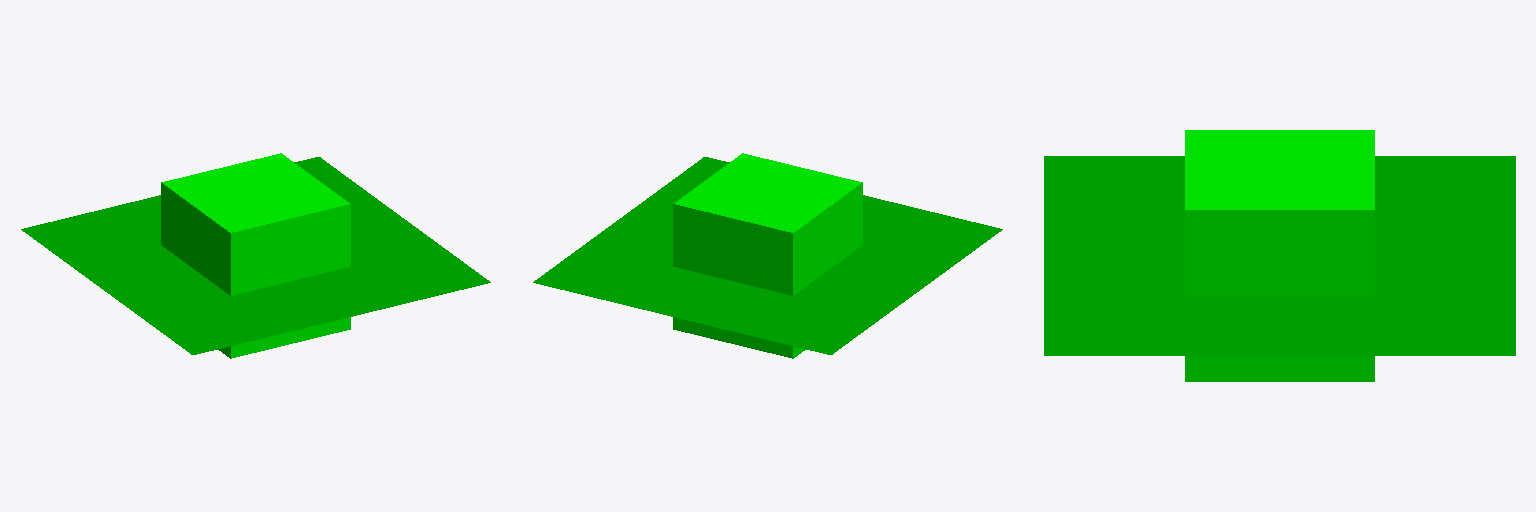
The robot description file, URDF, robot "cubeTargetIndicator.urdf":
<?xml version="1.0" ?>
<!-- =================================================================================== -->
<!-- |    This document was autogenerated by xacro from [local-path]/Documents/Courses/2020 IPAB_intern/RSS_Practical_Private/Completed_direction/RSS_Practical_2020/task3_1/lib/task_urdfs/task3_1_target.urdf | -->
<!-- |    EDITING THIS FILE BY HAND IS NOT RECOMMENDED                                 | -->
<!-- =================================================================================== -->
<robot name="cubeTargetIndicator.urdf" xmlns:xacro="http://ros.org/wiki/xacro">
  <!-- size in x direction -->
  <!-- size in y direction -->
  <!-- size in z direction -->
  <material name="red">
    <color rgba="1 0 0 0.5"/>
  </material>
  <material name="yellow">
    <color rgba="1 1 0 0.5"/>
  </material>
  <material name="green">
    <color rgba="0 1 0 .8"/>
  </material>
  <material name="dark_green">
    <color rgba="0 .7 0 .5"/>
  </material>
  <link name="base_link">
    <!-- target area plane -->
    <visual>
      <origin rpy="0 0 0" xyz="0 0 0.0"/>
      <geometry>
        <box size="0.198994 0.198994 0.0"/>
      </geometry>
      <material name="dark_green"/>
    </visual>
  </link>
  <!-- <link name="wall1">
        <visual>
            <origin rpy="0 0 0" xyz="0 0 0"/>
            <geometry>
                <box size="${wallThickness} ${targetAreaWidth} ${wallHeight}"/>
            </geometry>
            <material name="yellow" />
        </visual>
    </link>

    <link name="wall2">
        <visual>
            <origin rpy="0 0 ${pi/2}" xyz="0 0 0"/>
            <geometry>
                <box size="${wallThickness} ${targetAreaLength+wallThickness} ${wallHeight}"/>
            </geometry>
            <material name="yellow" />
        </visual>
    </link>

    <link name="wall3">
        <visual>
            <origin rpy="0 0 ${pi/2}" xyz="0 0 0"/>
            <geometry>
                <box size="${wallThickness} ${targetAreaLength+wallThickness} ${wallHeight}"/>
            </geometry>
            <material name="yellow" />
        </visual>
    </link> -->
  <link name="cube">
    <visual>
      <origin rpy="0 0 0" xyz="0 0 0"/>
      <geometry>
        <box size="0.08 0.08 0.08"/>
      </geometry>
      <material name="green"/>
    </visual>
  </link>
  <!-- <joint name="base_to_wall1" type="fixed">
        <parent link="base_link"/>
        <child link="wall1"/>
        <origin xyz="-${(targetAreaLength+wallThickness)/2} 0 ${targetAreaHeight/2}"/>
    </joint>        

    <joint name="base_to_wall2" type="fixed">
        <parent link="base_link"/>
        <child link="wall2"/>
        <origin xyz="-${wallThickness/2} -${(targetAreaWidth+wallThickness)/2} ${targetAreaHeight/2}"/>
    </joint>  
          
    <joint name="base_to_wall3" type="fixed">
        <parent link="base_link"/>
        <child link="wall3"/>
        <origin xyz="-${wallThickness/2} ${(targetAreaWidth+wallThickness)/2} ${targetAreaHeight/2}"/>
    </joint> -->
  <joint name="base_to_cube" type="fixed">
    <parent link="base_link"/>
    <child link="cube"/>
    <origin xyz="0 0 0"/>
  </joint>
</robot>

--- What the picture shows (computed from the rendered views, not written in the file) ---
Views: 3 orthographic renders of the robot side by side, from view 1: azimuth 30°, elevation 25°; view 2: azimuth 150°, elevation 25°; view 3: azimuth 270°, elevation 25°.
Model cubeTargetIndicator.urdf with 2 links and 1 joints (1 fixed), rooted at base_link, posed all joints at 0.
Visible links, largest first — view 1: base_link, cube; view 2: base_link, cube; view 3: base_link, cube.
Link boxes in pixels (box(x1,y1,x2,y2)): base_link: box(21, 157, 490, 354); cube: box(161, 153, 350, 358); base_link: box(533, 157, 1002, 354); cube: box(673, 153, 862, 358); base_link: box(1044, 156, 1515, 355); cube: box(1185, 130, 1374, 381).
Size in the robot's own frame: 0.199 by 0.199 by 0.08 metres.
Geometry: primitives only (box / cylinder / sphere), no mesh files.
